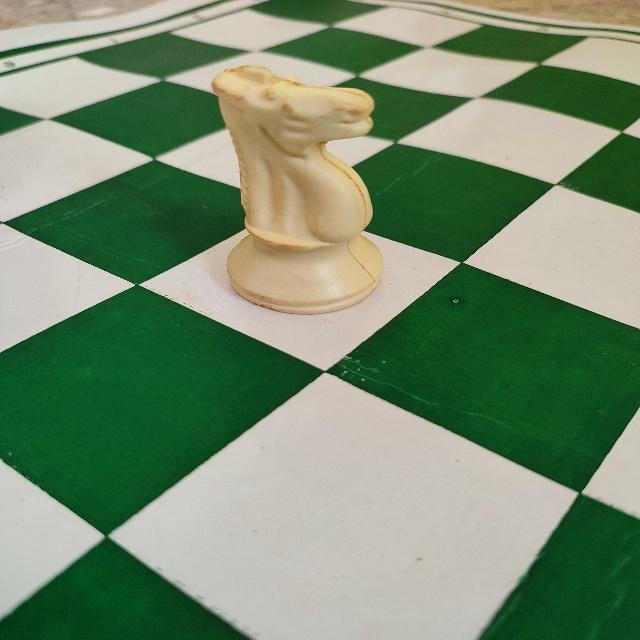Knight: (208, 57, 388, 321)
